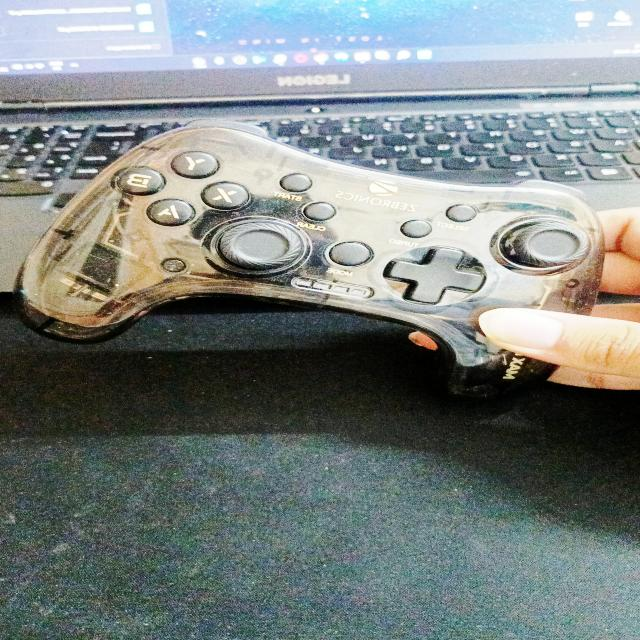gamepad: (16, 120, 608, 400)
